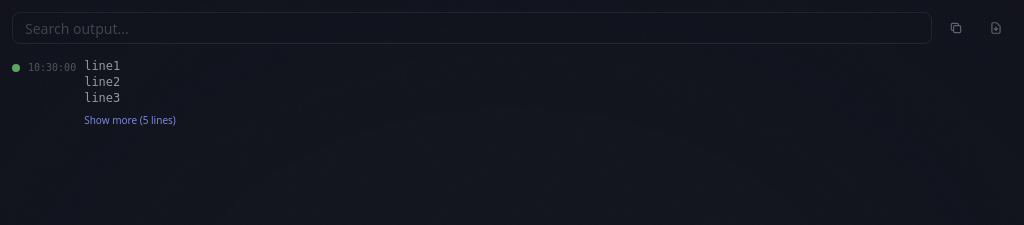
Test: HistoryTab › clicking "Show less" collapses expanded entry
The width and height of the screenshot is (1024, 225).
What coordinates should you click on to do the following:
click the button with test id "expand-toggle-42"
I would click on:
 (130, 120)
Its box is [84,113,176,128].
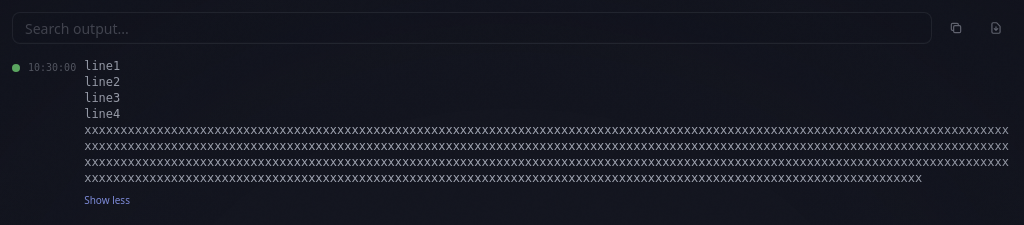
Expected: the button "Show less" is shown
What coordinates should you click on to do the following:
click the button with test id "expand-toggle-42"
I would click on:
 (107, 200)
Its box is [84,193,130,208].
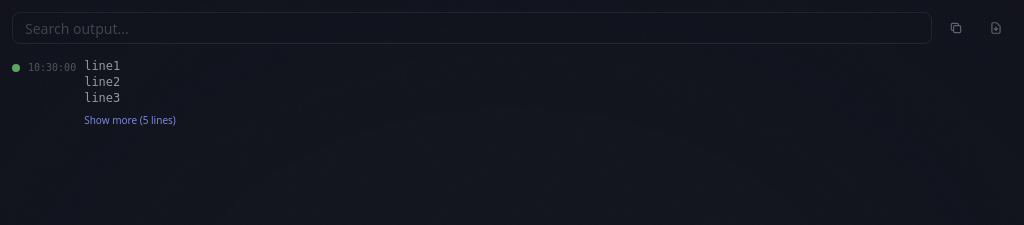
Expected: the button "Show more (5 lines)" is shown, [84,113,176,128]
